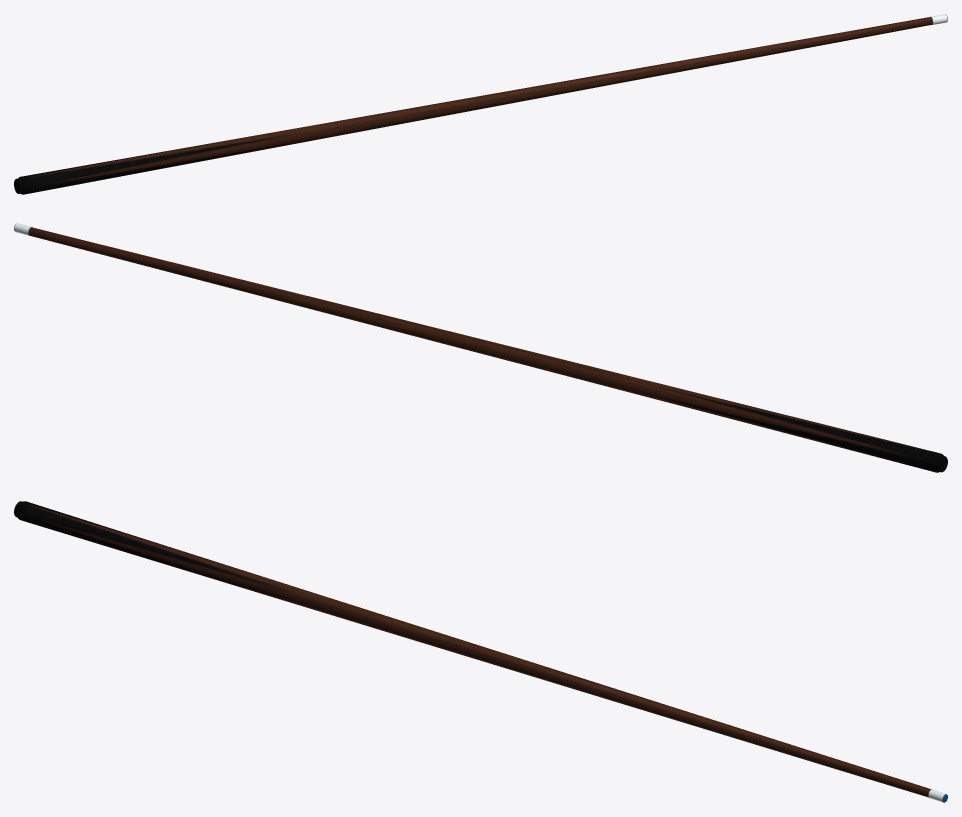
File: cue.FBX
3 renders of one model, top to bottom at view 1: azimuth 30°, elevation 25°; view 2: azimuth 150°, elevation 25°; view 3: azimuth 330°, elevation 25°, orthographic. The views are drawn at different scales.
Visible parts, largest first — view 1: Cue; view 2: Cue; view 3: Cue.
Part boxes in pixels (x1,y1,x2,y2): Cue: [14, 14, 947, 194]; Cue: [14, 223, 947, 472]; Cue: [14, 501, 947, 802].
Size of the model in its own units: 198 by 7.63 by 15.86.
1 material, 1 textured.
